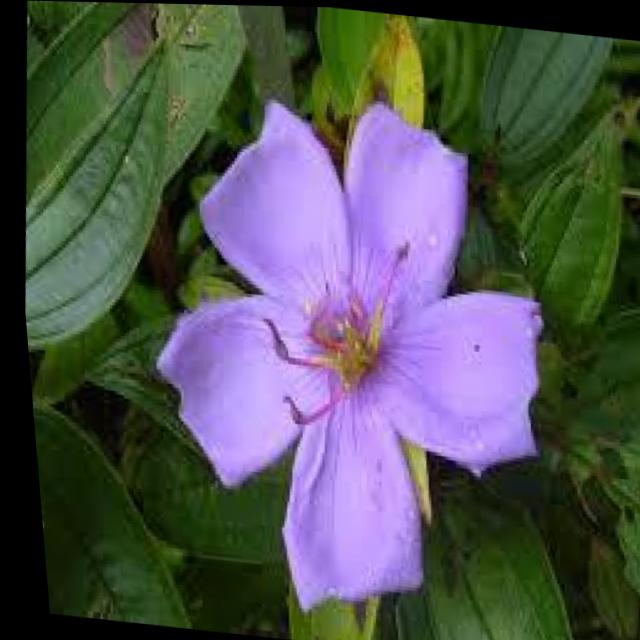Flower: (117, 74, 583, 628)
